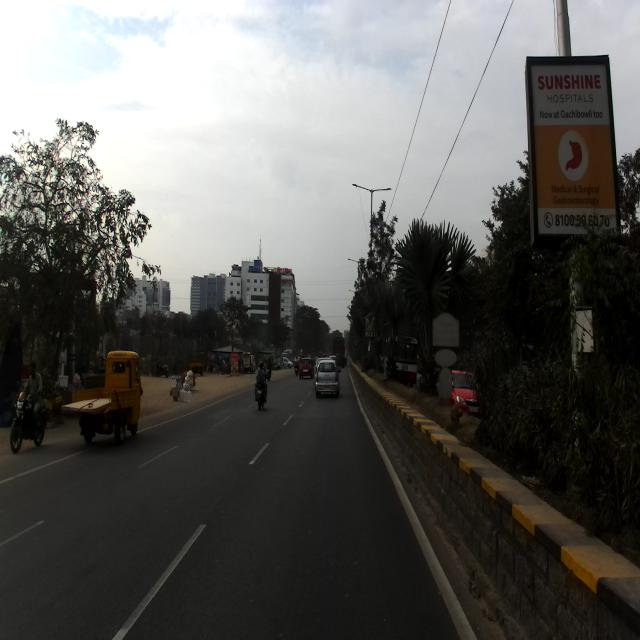truck ahead at: (65, 344, 148, 454)
